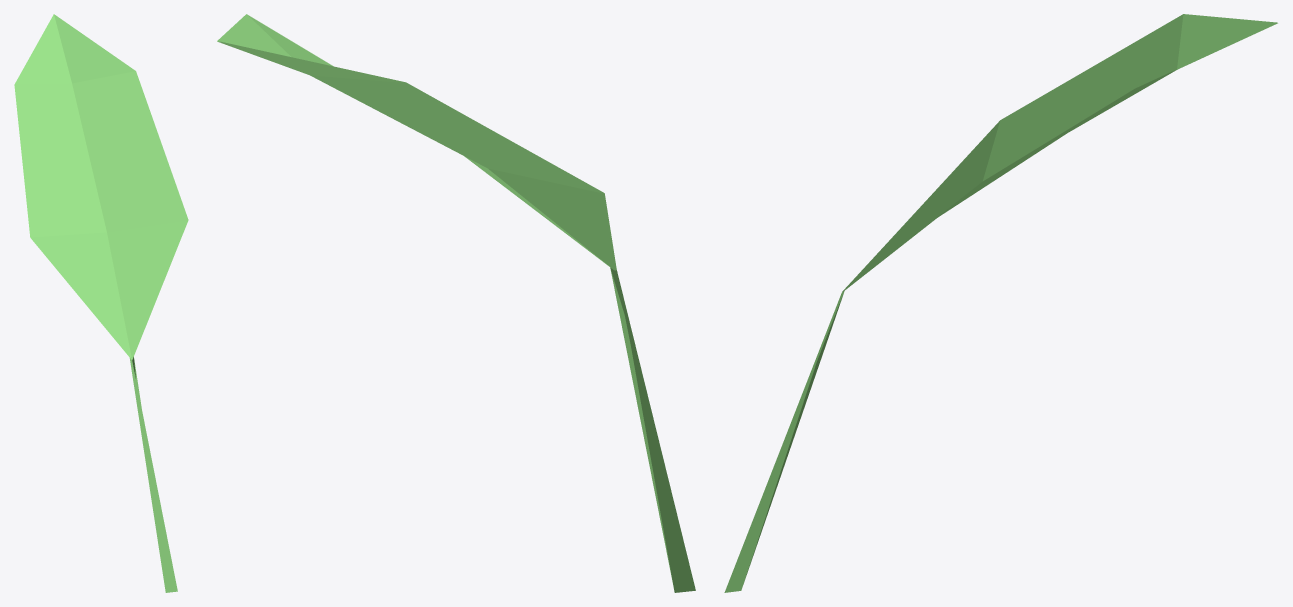
The model's file is Plant_j_TwoS_06.fbx.
3 views of the same model, side by side, from view 1: azimuth 30°, elevation 25°; view 2: azimuth 150°, elevation 25°; view 3: azimuth 270°, elevation 25° (orthographic). The views are drawn at different scales.
Parts seen in each view (by area): view 1: Plant_j_TwoS_06; view 2: Plant_j_TwoS_06; view 3: Plant_j_TwoS_06.
Boxes of the visible parts, x1,y1,x2,y2 form: Plant_j_TwoS_06: (14, 14, 188, 592); Plant_j_TwoS_06: (217, 14, 695, 592); Plant_j_TwoS_06: (724, 14, 1277, 592).
Bounding box in the file's own units: 9.11 × 24.22 × 19.71.
